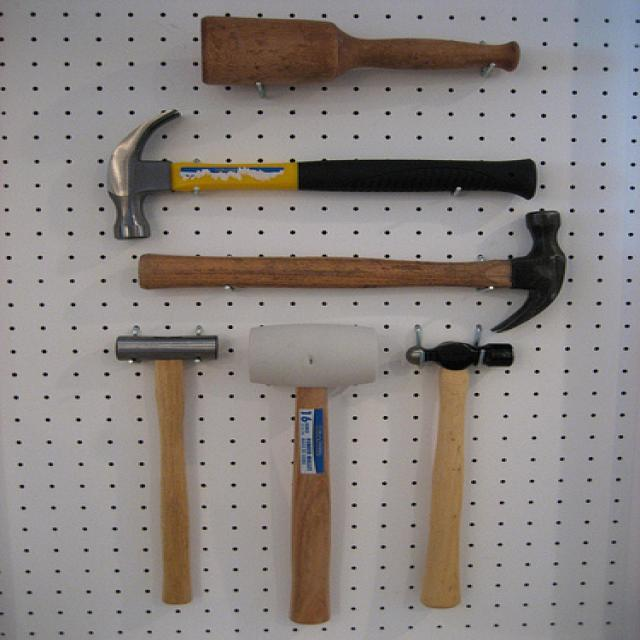hammer: (90, 97, 550, 251), (118, 212, 614, 326), (236, 315, 392, 624), (97, 316, 235, 621), (396, 327, 526, 623)
